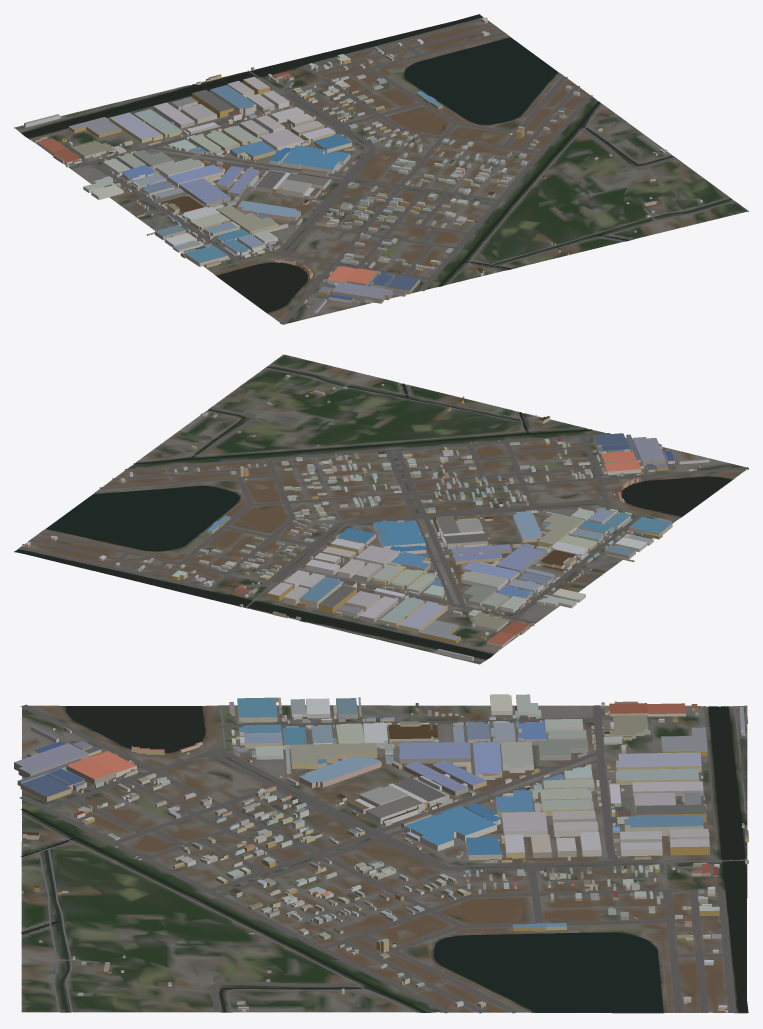
The picture shows the model from 3 angles, top to bottom: view 1: azimuth 30°, elevation 25°; view 2: azimuth 150°, elevation 25°; view 3: azimuth 270°, elevation 25°; orthographic projection. The views are drawn at different scales.
Visible parts, largest first — view 1: ground, buildings, roads, water; view 2: ground, buildings, roads, water; view 3: ground, buildings, roads, water.
Part boxes in pixels (left/top/right/bottom): ground: left=14, top=15, right=748, bottom=324; buildings: left=24, top=18, right=702, bottom=313; roads: left=16, top=17, right=734, bottom=324; water: left=22, top=14, right=732, bottom=312; ground: left=14, top=354, right=748, bottom=664; buildings: left=22, top=374, right=709, bottom=661; roads: left=19, top=364, right=748, bottom=663; water: left=14, top=366, right=731, bottom=659; ground: left=21, top=705, right=747, bottom=1013; buildings: left=14, top=694, right=748, bottom=1012; roads: left=19, top=704, right=747, bottom=1013; water: left=21, top=706, right=748, bottom=1012.
Bounding box in the file's own units: 1438 × 28.14 × 1419.
